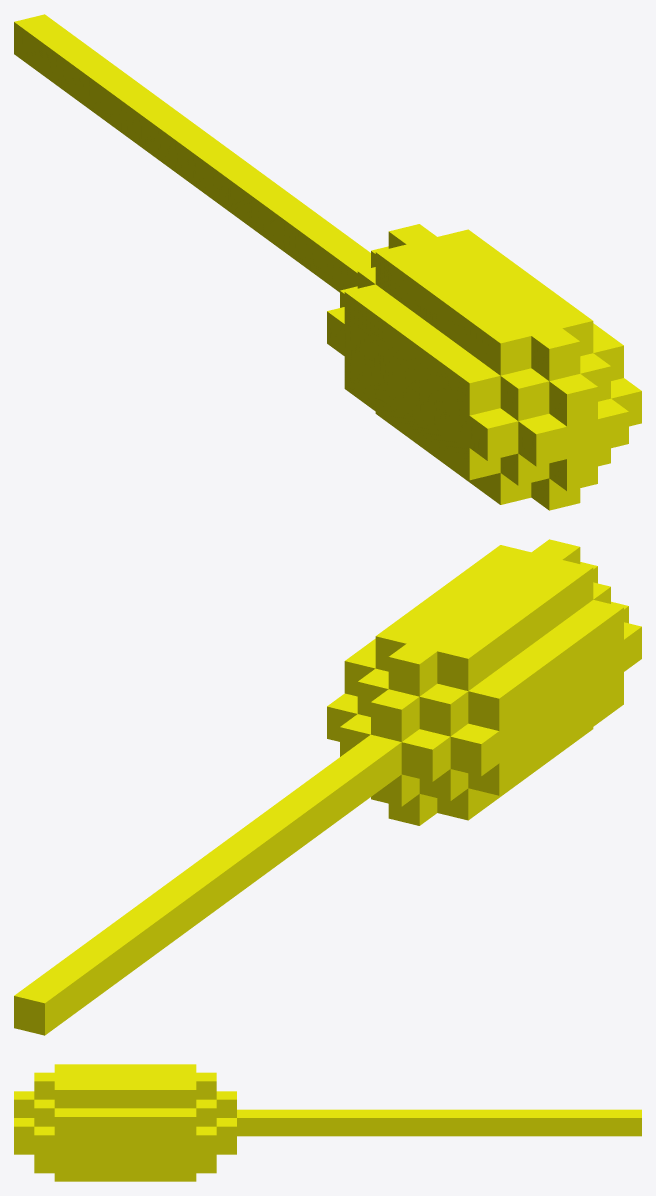
The model's file is voxel-knights-mace.glb.
3 renders of one model, top to bottom at view 1: azimuth 30°, elevation 25°; view 2: azimuth 150°, elevation 25°; view 3: azimuth 270°, elevation 25°, orthographic. The views are drawn at different scales.
Parts seen in each view (by area): view 1: VS_Knights_Props_Mace_001; view 2: VS_Knights_Props_Mace_001; view 3: VS_Knights_Props_Mace_001.
Boxes of the visible parts, bbox=[...] form: VS_Knights_Props_Mace_001: bbox=[14, 14, 641, 510]; VS_Knights_Props_Mace_001: bbox=[14, 539, 641, 1035]; VS_Knights_Props_Mace_001: bbox=[14, 1064, 641, 1181].
Size of the model in its own units: 0.4999 by 0.4999 by 3.1.
